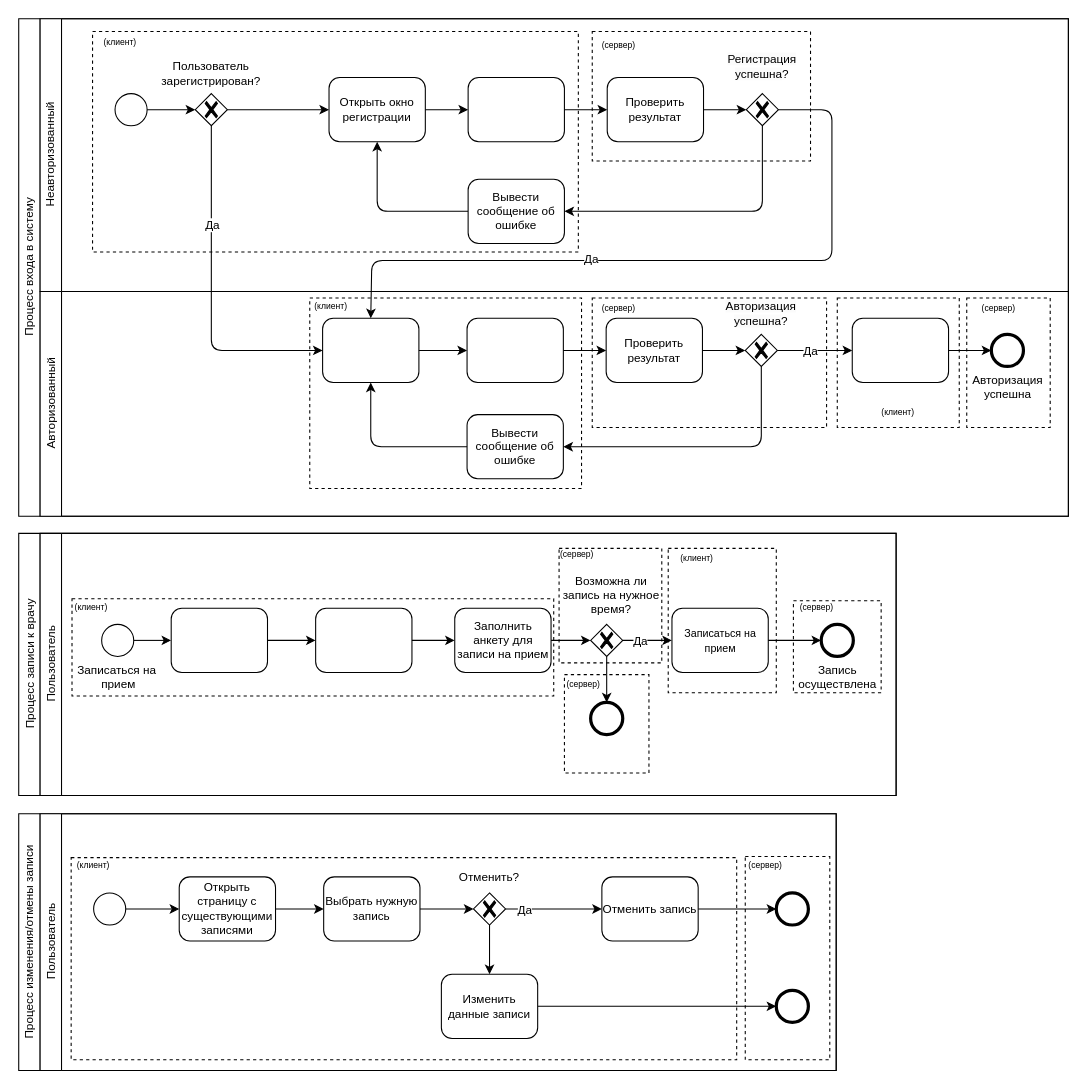
This 1087x1089 diagram has some shape labels left out. The centre of each missing label's shape, as x and y in pixels:
"Ввести данные для регистрации" belongs at (x=515, y=109).
"Ввести логин и пароль" belongs at (x=514, y=350).
"Войти в систему" belongs at (x=130, y=109).
"Запись изменена" belongs at (x=791, y=1005).
"Запись не осуществлена" belongs at (x=606, y=718).
"Запись отменена" belongs at (x=791, y=908).
"Изменить запись" belongs at (x=109, y=908).
"Открыть главную страницу" belongs at (x=219, y=639).
"Открыть окно авторизации" belongs at (x=370, y=350).
"Открыть окно записи на прием" belongs at (x=363, y=639).
"Перейти на главную страницу" belongs at (x=900, y=350).
